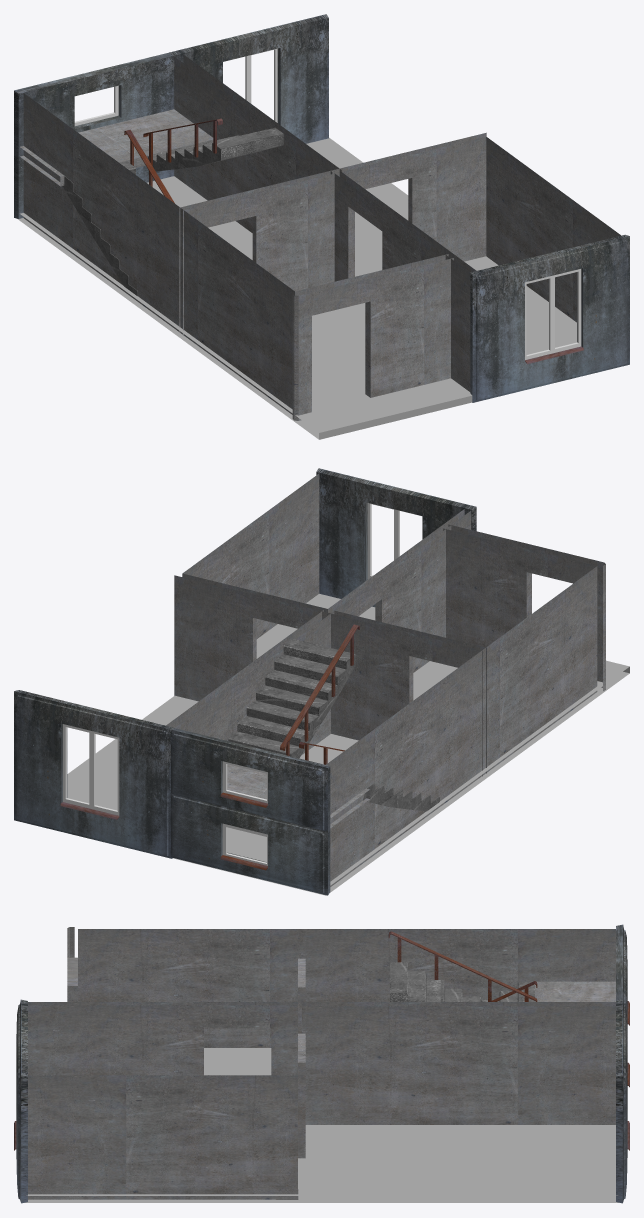
Rendered from floor1-s1.gltf.
3 views of the same model, one above another, from view 1: azimuth 30°, elevation 25°; view 2: azimuth 150°, elevation 25°; view 3: azimuth 270°, elevation 25° (orthographic).
Parts seen in each view (by area): view 1: Plane116.002, Box420.002, Plane120.002, Box429.002, Box430.002, Box431.002, Plane154.004, Plane154.001; view 2: Plane116.002, Box420.002, Plane120.002, Box430.002, Box431.002, Plane154.001, Box429.002, Box395.002, Plane154.004; view 3: Plane116.002, Plane120.002, Box420.002, Box430.002, Box429.002, Box431.002.
Boxes of the visible parts, x1,y1,x2,y2 form: Plane116.002: (23,54,620,420); Box420.002: (14,14,629,402); Plane120.002: (17,137,576,439); Box429.002: (20,109,213,186); Box430.002: (63,127,283,295); Box431.002: (124,118,222,203); Plane154.004: (525,269,581,359); Plane154.001: (223,48,277,122); Plane116.002: (166,473,605,886); Box420.002: (14,468,476,895); Plane120.002: (67,593,629,895); Box430.002: (228,639,439,811); Box431.002: (280,624,359,764); Plane154.001: (63,724,119,815); Box429.002: (227,764,370,827); Box395.002: (60,792,267,870); Plane154.004: (367,503,422,579); Plane116.002: (28,927,615,1199); Plane120.002: (24,1048,619,1202); Box420.002: (16,924,627,1203); Box430.002: (390,962,534,1001); Box429.002: (535,981,615,1001); Box431.002: (388,931,537,1001).
Bounding box in the file's own units: 6.62 × 3.31 × 11.38.
Materials: 6 (4 with a texture image).
